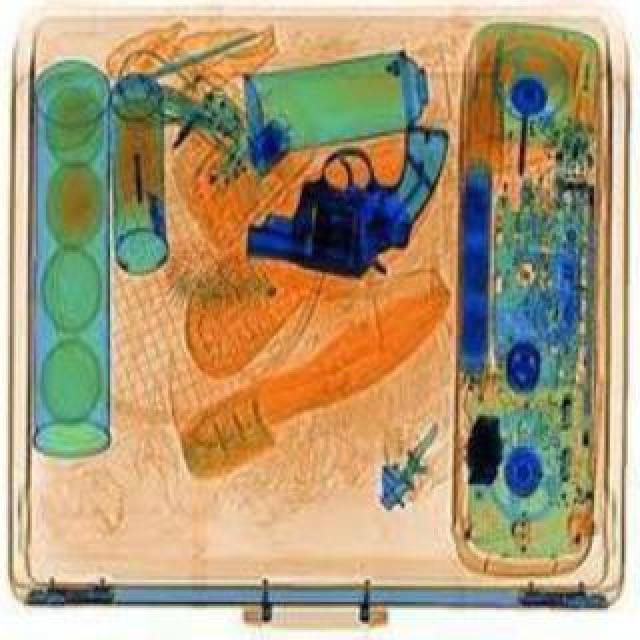gun: (246, 126, 454, 288)
